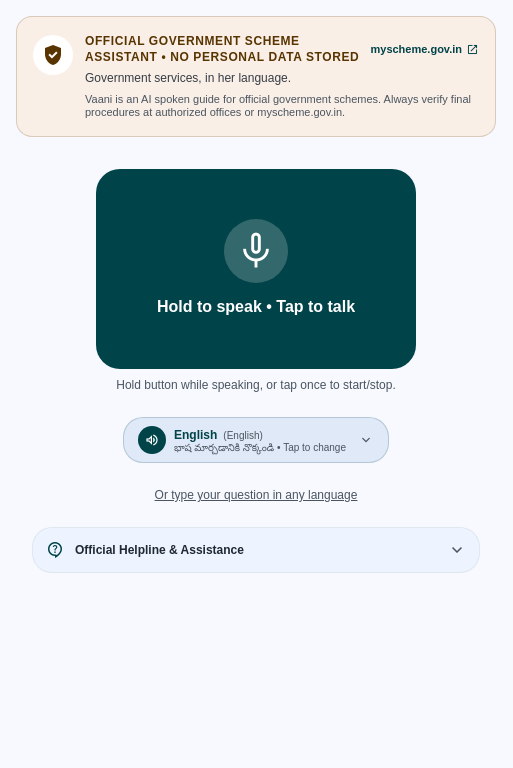
Test: Whole-App Language Switching & Zero-Default Regression › starts with initial language none and switches whole UI to Hindi upon Hindi input
The width and height of the screenshot is (513, 768).
# Open typed input form
Click the button "Or type your question in any language" at (256, 495), box 16,479 -> 496,511
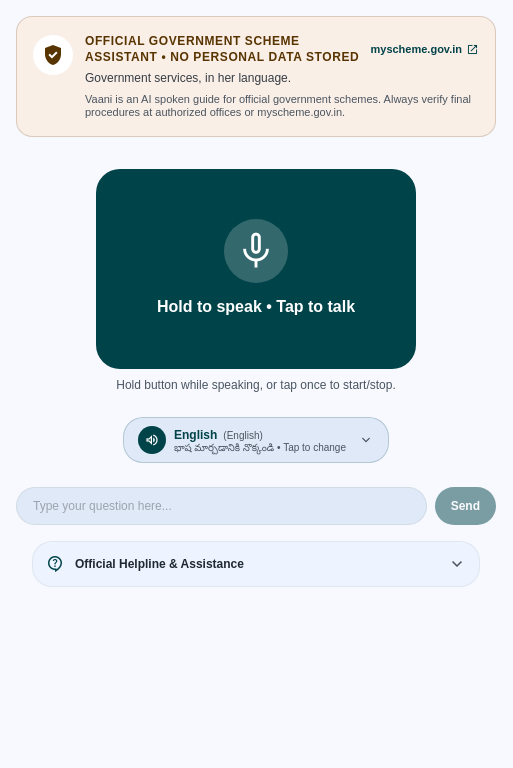
# Submit typed question in Hindi
Type "मुझे गैस कनेक्शन चाहिए" into the field with placeholder "Type your question here..." at (221, 506), box 16,487 -> 427,525
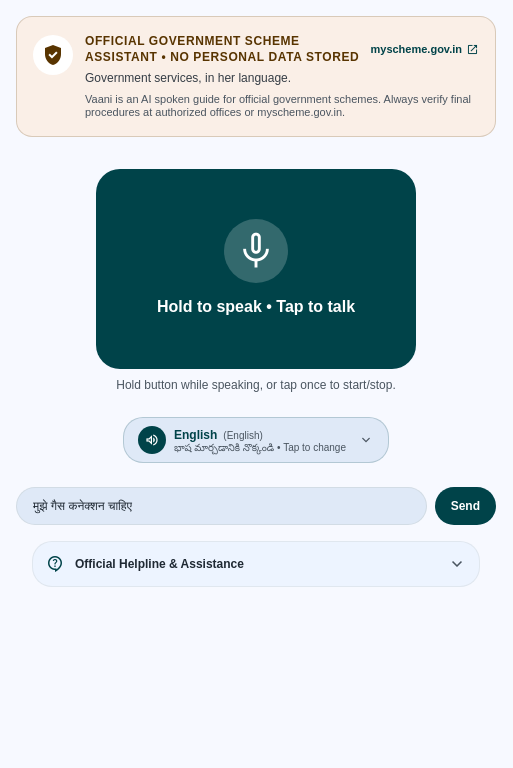
Click the button "Send" at (465, 506), box 435,487 -> 496,525
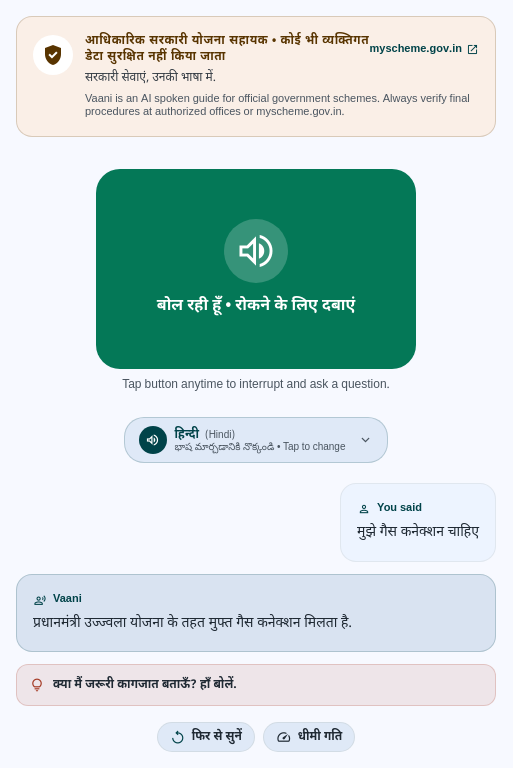
Now the text "मुझे गैस कनेक्शन चाहिए" is shown, box 357,522 -> 479,545
Now the text "प्रधानमंत्री उज्ज्वला योजना के तहत मुफ्त गैस कनेक्शन मिलता है" is shown, box 33,614 -> 352,632
Now the text "हिन्दी" is shown, box 174,427 -> 199,443
